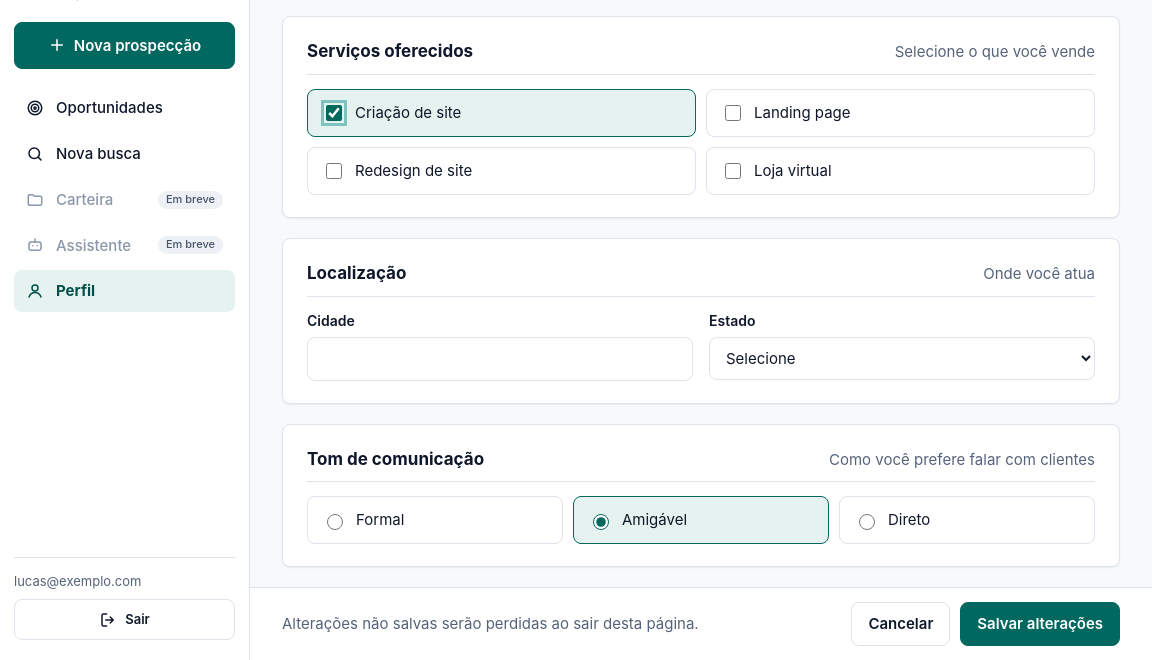
Test: tela Perfil › adiciona habilidades sem repetir, escolhe serviços e salva
The width and height of the screenshot is (1152, 660).
Earlier steps of the test are not shown.
(page scrolled)
Click the radio button labelled "Direto": {"x": 867, "y": 522} [859,514,875,530]
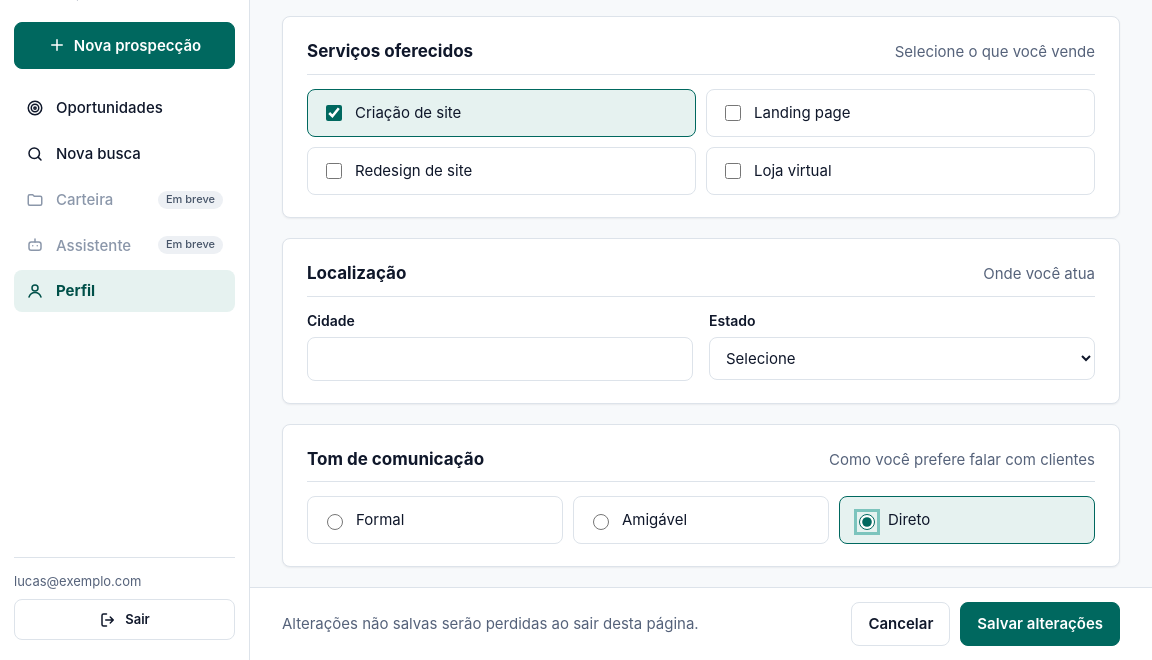
Click the button "Salvar alterações": {"x": 1040, "y": 624} [960,602,1120,646]
(page scrolled)
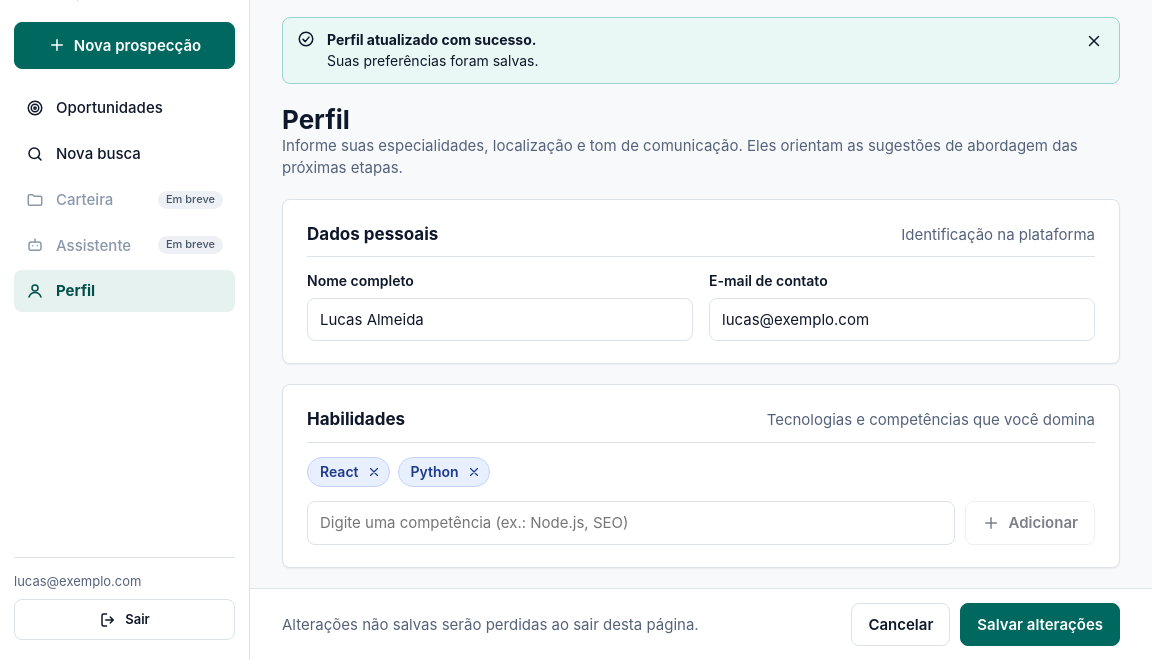
Expected: the text "Perfil atualizado com sucesso." is shown, [327,30,538,51]
